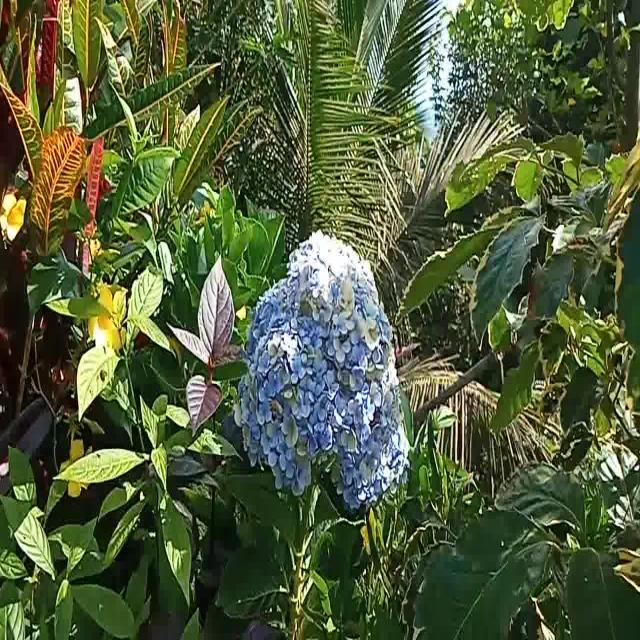Flower: (233, 216, 402, 503)
